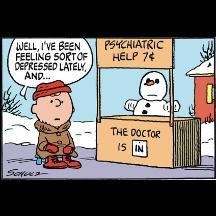charlie: (30, 78, 82, 170)
